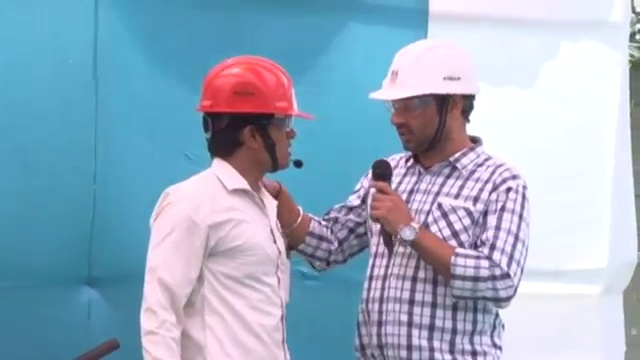helmet: (195, 54, 315, 122), (365, 38, 485, 102)
helmet_on: (192, 53, 319, 188), (359, 37, 485, 165)
person: (271, 36, 531, 360), (139, 54, 314, 360)
